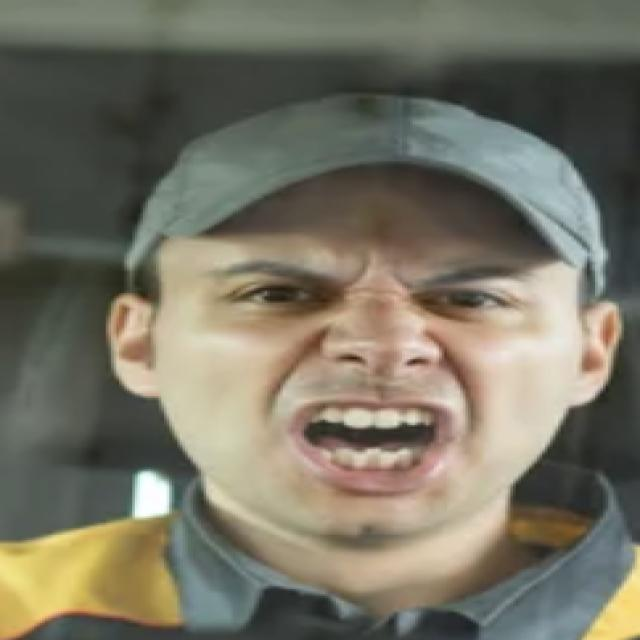angry: (159, 220, 595, 603)
